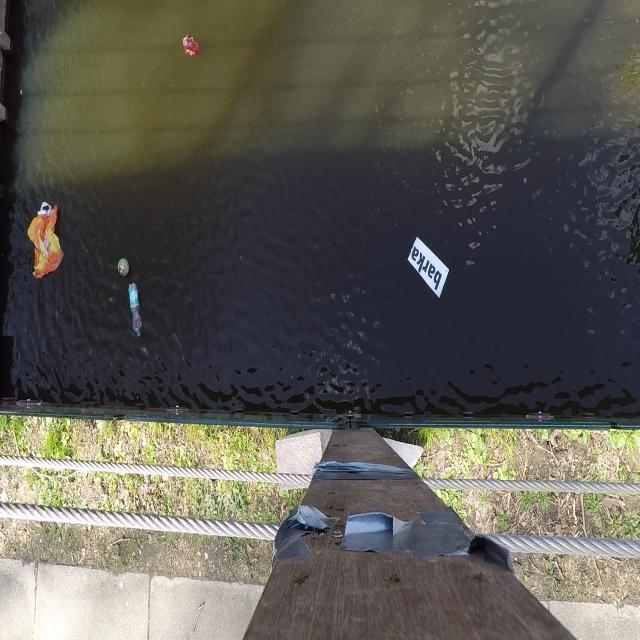Autre plastique: (117, 256, 131, 280)
Bouteille plastique: (126, 280, 147, 346)
Sac plastique: (22, 197, 68, 286), (179, 28, 204, 64)
